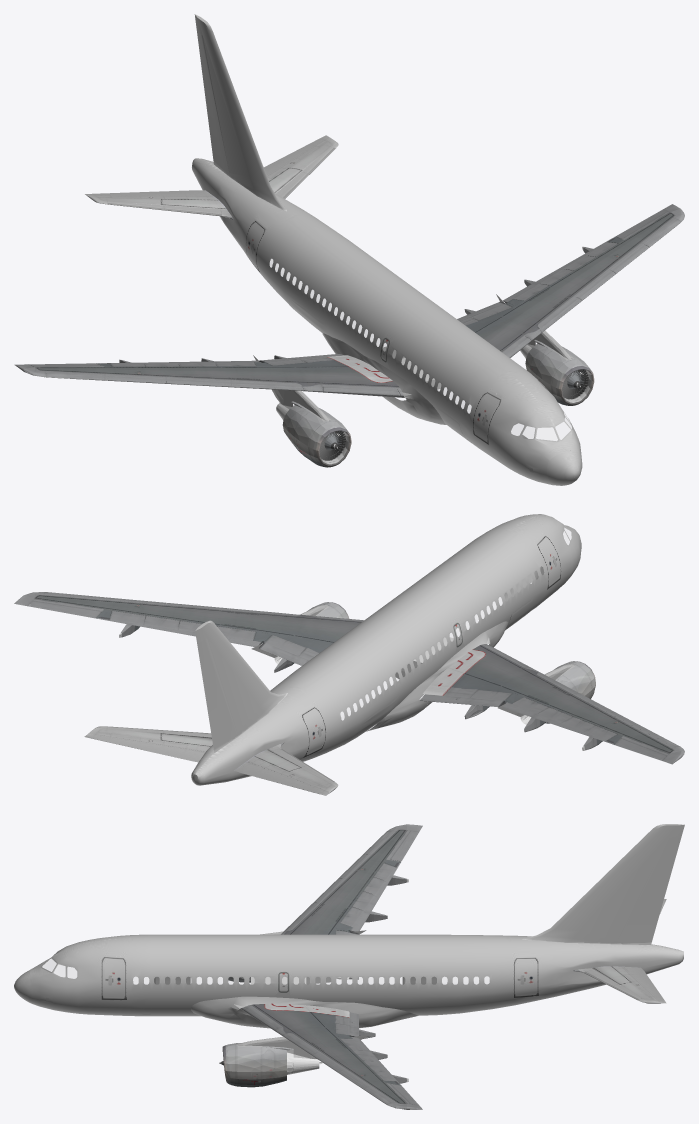
3 views of the same model, one above another, from view 1: azimuth 30°, elevation 25°; view 2: azimuth 150°, elevation 25°; view 3: azimuth 270°, elevation 25° (orthographic). The views are drawn at different scales.
Parts seen in each view (by area): view 1: Fuselage.001, Wings.001, Vstab.001, Hstabs.001, Belly.001, Rudder, Nose, Intake, Intake.001, Nacelle.001, Pylon.001, Nacelle (+2 smaller); view 2: Fuselage.001, Wings.001, Vstab.001, Hstabs.001, Rudder, Belly.001, ElevatorL, ElevatorR, FlapR1, Windows, FlapL2, FlapR2 (+7 smaller); view 3: Fuselage.001, Wings.001, Vstab.001, Belly.001, Rudder, Hstabs.001, Nacelle, Windows, EngineL, DoorL1, DoorL3, Pylon (+3 smaller).
Part boxes in pixels (<box>): Fuselage.001: <box>192,158,581,485</box>; Wings.001: <box>32,211,680,397</box>; Vstab.001: <box>194,14,286,211</box>; Hstabs.001: <box>88,137,338,219</box>; Belly.001: <box>323,333,446,424</box>; Rudder: <box>196,30,229,173</box>; Nose: <box>546,450,582,485</box>; Intake: <box>550,358,594,405</box>; Intake.001: <box>307,420,351,467</box>; Nacelle.001: <box>293,410,340,463</box>; Pylon.001: <box>253,355,330,421</box>; Nacelle: <box>535,348,583,394</box>; Fuselage.001: <box>191,514,581,785</box>; Wings.001: <box>33,592,679,756</box>; Vstab.001: <box>195,620,287,741</box>; Hstabs.001: <box>89,726,338,792</box>; Rudder: <box>197,638,236,752</box>; Belly.001: <box>378,621,508,728</box>; ElevatorL: <box>84,733,205,762</box>; ElevatorR: <box>234,761,329,795</box>; FlapR1: <box>420,693,507,706</box>; Windows: <box>341,567,543,719</box>; FlapL2: <box>98,616,264,646</box>; FlapR2: <box>502,701,614,744</box>; Fuselage.001: <box>30,934,683,1016</box>; Wings.001: <box>240,830,411,1103</box>; Vstab.001: <box>522,824,684,944</box>; Belly.001: <box>191,996,417,1028</box>; Rudder: <box>617,837,681,944</box>; Hstabs.001: <box>573,966,659,1003</box>; Nacelle: <box>237,1043,263,1087</box>; Windows: <box>133,977,488,983</box>; EngineL: <box>263,1046,293,1086</box>; DoorL1: <box>104,956,124,999</box>; DoorL3: <box>516,956,536,996</box>; Pylon: <box>236,1035,369,1059</box>.
Size of the model in its own units: 33.91 by 11.64 by 33.89.
Materials: 27 (6 with a texture image).
